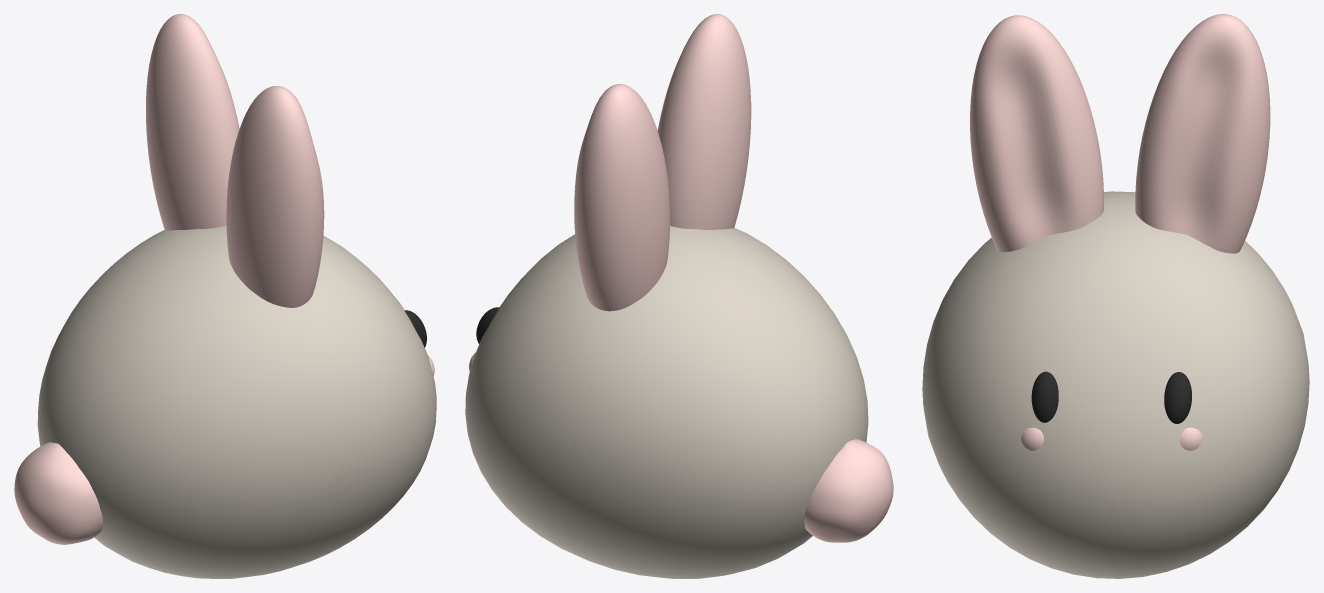
Rendered from bunny.fbx.
3 renders of one model, left to right at view 1: azimuth 30°, elevation 25°; view 2: azimuth 150°, elevation 25°; view 3: azimuth 270°, elevation 25°, orthographic. The views are drawn at different scales.
Parts seen in each view (by area): view 1: bunny body, right ear, bunny tail; view 2: bunny body, right ear, bunny tail; view 3: bunny body, right ear, eyes, blush.
Boxes of the visible parts, left/top/right/bottom form: bunny body: left=37, top=226, right=436, bottom=578; right ear: left=146, top=14, right=324, bottom=307; bunny tail: left=14, top=442, right=102, bottom=544; bunny body: left=465, top=226, right=868, bottom=578; right ear: left=574, top=14, right=751, bottom=311; bunny tail: left=804, top=439, right=893, bottom=542; bunny body: left=922, top=191, right=1309, bottom=578; right ear: left=970, top=14, right=1270, bottom=253; eyes: left=1031, top=371, right=1191, bottom=423; blush: left=1021, top=427, right=1202, bottom=450.
Bounding box in the file's own units: 108 × 135 × 88.19.
